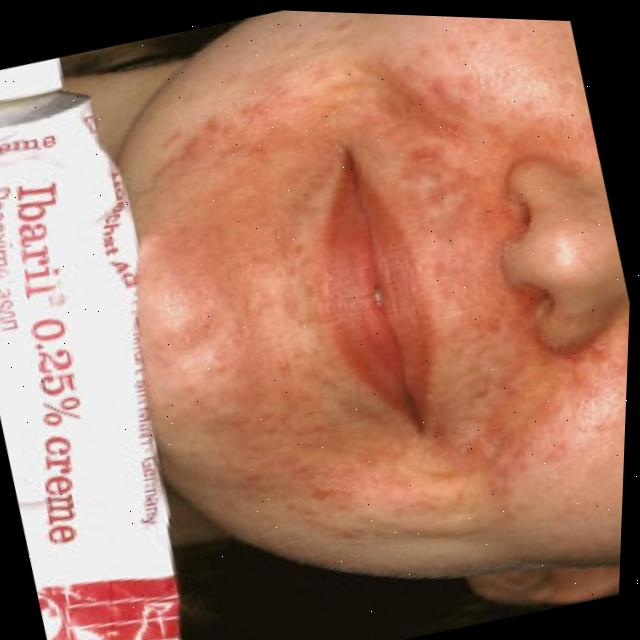Rosacea: (104, 5, 640, 604)
